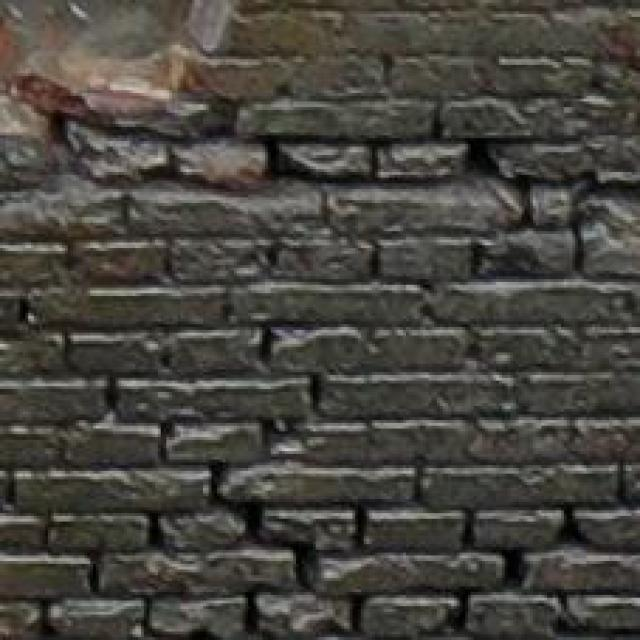Crack: (0, 0, 640, 313)
